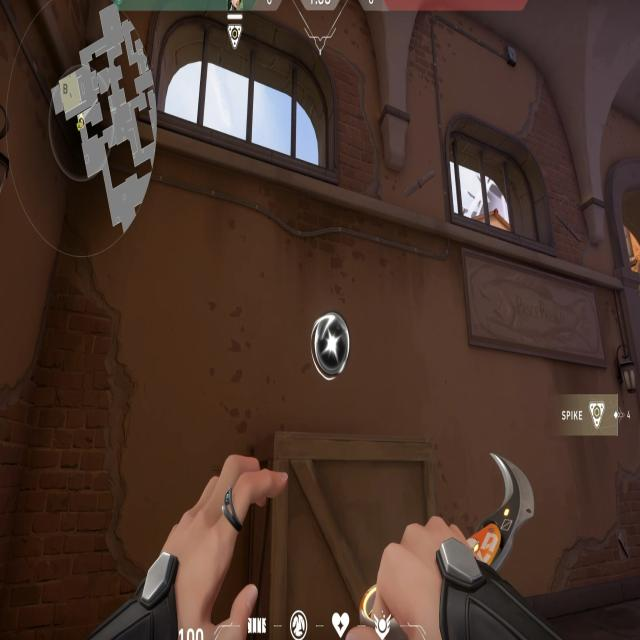B_Main_Wallbang: (243, 299, 453, 640)
Throwables: (139, 0, 346, 194), (438, 107, 559, 260)
